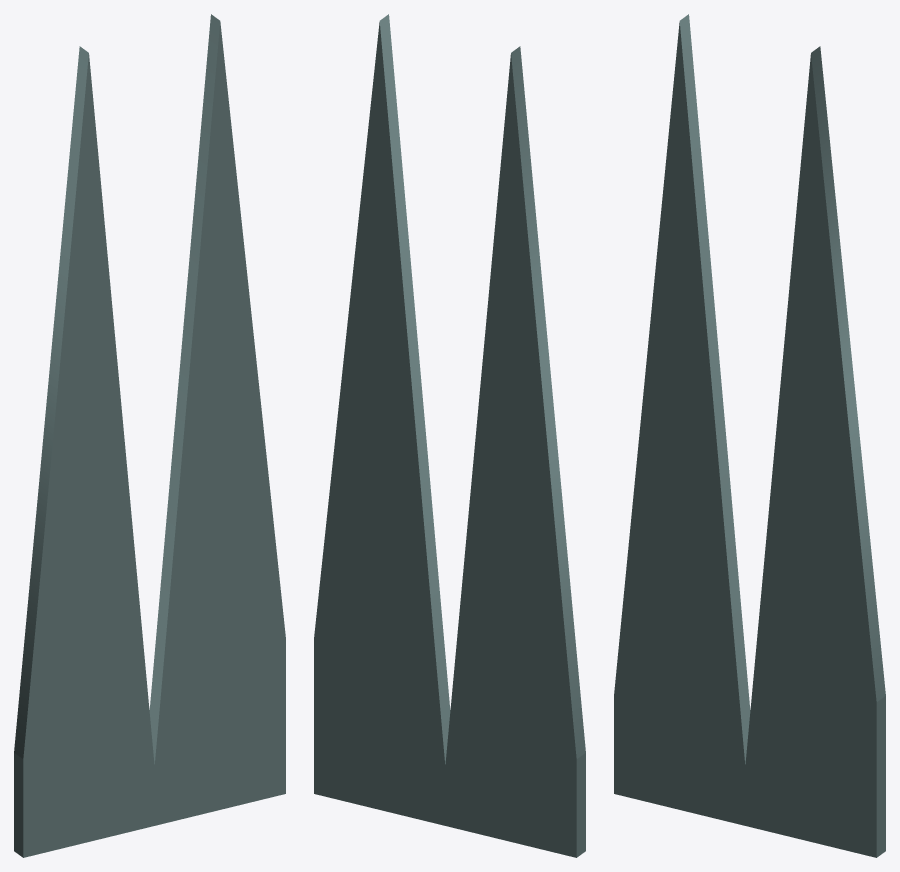
File: grass3.fbx
The picture shows the model from 3 angles, left to right: view 1: azimuth 30°, elevation 25°; view 2: azimuth 150°, elevation 25°; view 3: azimuth 330°, elevation 25°; orthographic projection.
Visible parts, largest first — view 1: grass3; view 2: grass3; view 3: grass3.
Part boxes in pixels (x1,y1,x2,y2): grass3: (14,14,285,857); grass3: (314,14,585,857); grass3: (614,14,885,857).
Size of the model in its own units: 22.69 by 65.15 by 1.4.
